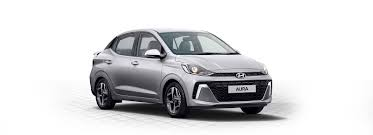car: (89, 29, 274, 115)
